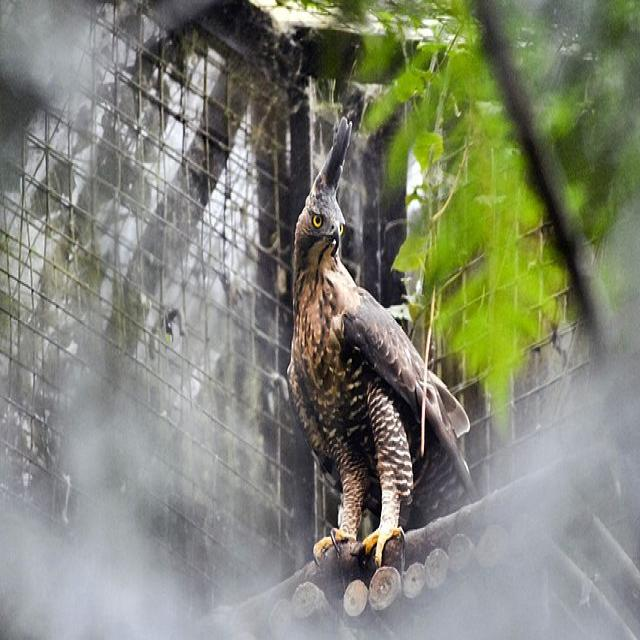Elang Jawa: (263, 96, 481, 595)
